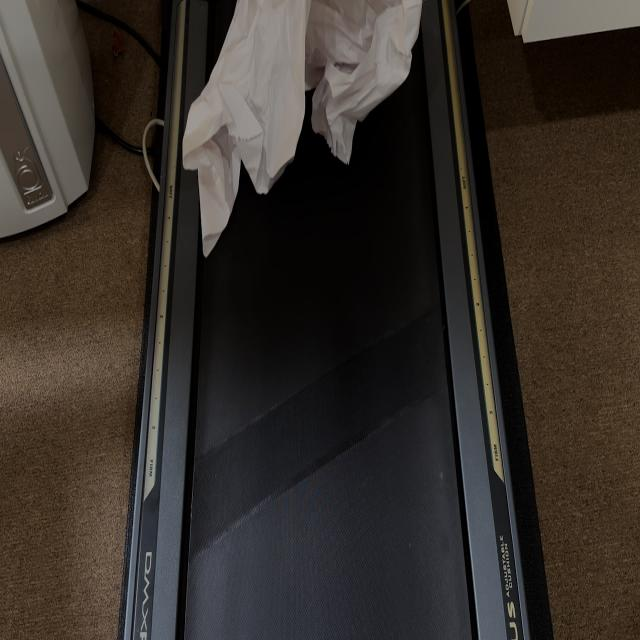Recycle: (181, 0, 425, 263)
